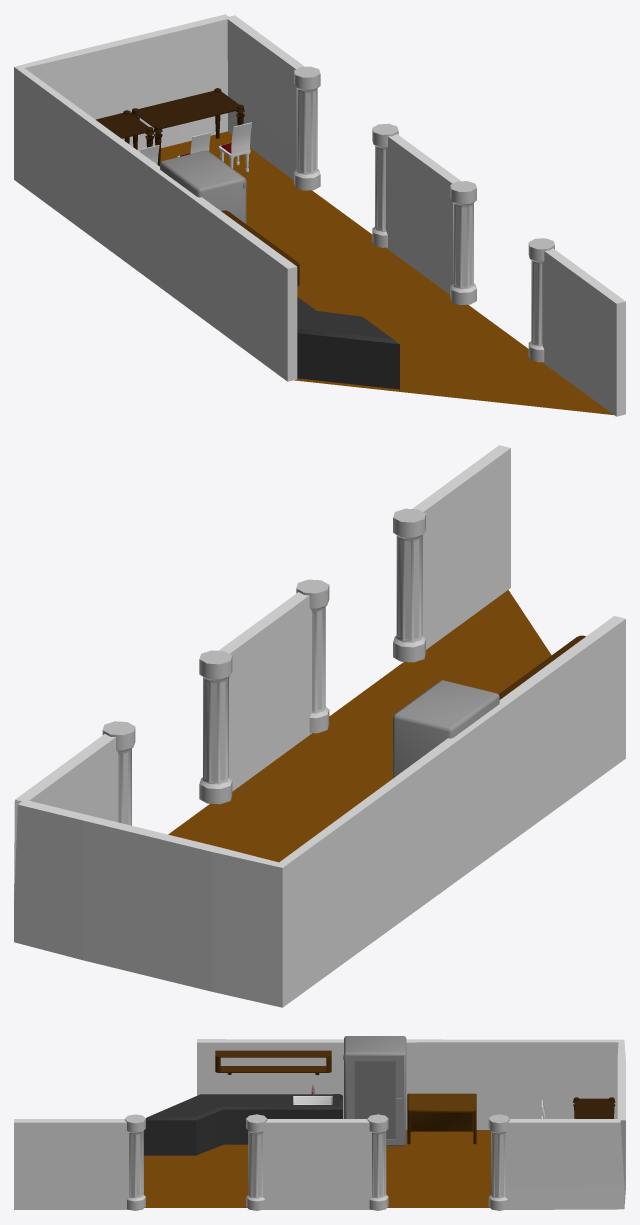
File: Kitchen_combined.fbx
The picture shows the model from 3 angles, top to bottom: view 1: azimuth 30°, elevation 25°; view 2: azimuth 150°, elevation 25°; view 3: azimuth 270°, elevation 25°; orthographic projection. The views are drawn at different scales.
Visible parts, largest first — view 1: Kitchen_Base.001, Kitchen_Base, Pillars_Kitchen, Cooking_Station, Kitchen_Table, Fridge, Kitchen_Chairs; view 2: Kitchen_Base.001, Kitchen_Base, Pillars_Kitchen, Fridge; view 3: Kitchen_Base.001, Kitchen_Base, Cooking_Station, Pillars_Kitchen, Fridge, Cooking_Station_Desk, Kitchen_Shelf, Kitchen_Table.
Part boxes in pixels (x1=…): Kitchen_Base.001: x1=14, y1=14, x2=625, y2=416; Kitchen_Base: x1=160, y1=131, x2=613, y2=414; Pillars_Kitchen: x1=294, y1=66, x2=554, y2=362; Cooking_Station: x1=297, y1=297, x2=399, y2=389; Kitchen_Table: x1=96, y1=88, x2=244, y2=166; Fridge: x1=160, y1=150, x2=246, y2=223; Kitchen_Chairs: x1=140, y1=122, x2=251, y2=171; Kitchen_Base.001: x1=14, y1=445, x2=625, y2=1007; Kitchen_Base: x1=168, y1=590, x2=551, y2=862; Pillars_Kitchen: x1=102, y1=508, x2=425, y2=825; Fridge: x1=393, y1=680, x2=499, y2=778; Kitchen_Base.001: x1=14, y1=1039, x2=625, y2=1209; Kitchen_Base: x1=144, y1=1130, x2=490, y2=1207; Cooking_Station: x1=144, y1=1094, x2=342, y2=1155; Pillars_Kitchen: x1=124, y1=1114, x2=509, y2=1210; Fridge: x1=343, y1=1036, x2=406, y2=1146; Cooking_Station_Desk: x1=407, y1=1093, x2=476, y2=1144; Kitchen_Shelf: x1=215, y1=1050, x2=331, y2=1075; Kitchen_Table: x1=573, y1=1097, x2=615, y2=1118.
Bounding box in the file's own units: 478 × 245 × 1444.
